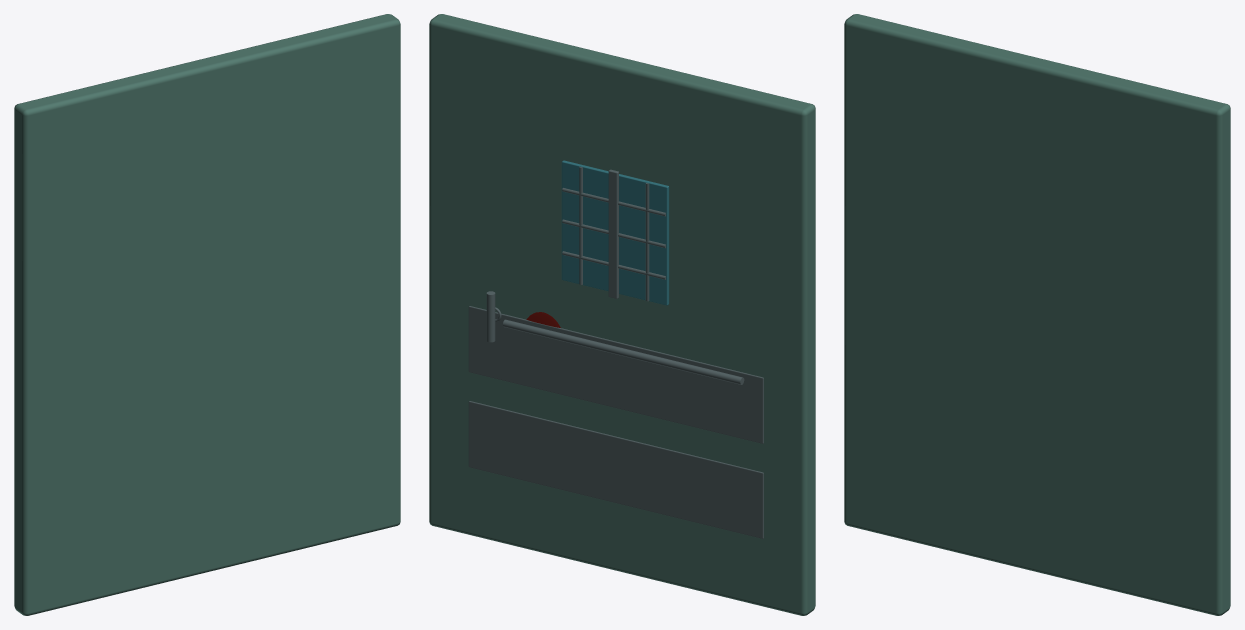
File: Door.obj
The picture shows the model from 3 angles, left to right: view 1: azimuth 30°, elevation 25°; view 2: azimuth 150°, elevation 25°; view 3: azimuth 330°, elevation 25°; orthographic projection.
Parts seen in each view (by area): view 1: Door; view 2: Door; view 3: Door.
Boxes of the visible parts, bbox=[...] form: Door: bbox=[14, 14, 400, 615]; Door: bbox=[429, 14, 815, 615]; Door: bbox=[844, 14, 1230, 615].
Size of the model in its own units: 2.5 by 3.2 by 0.215.
